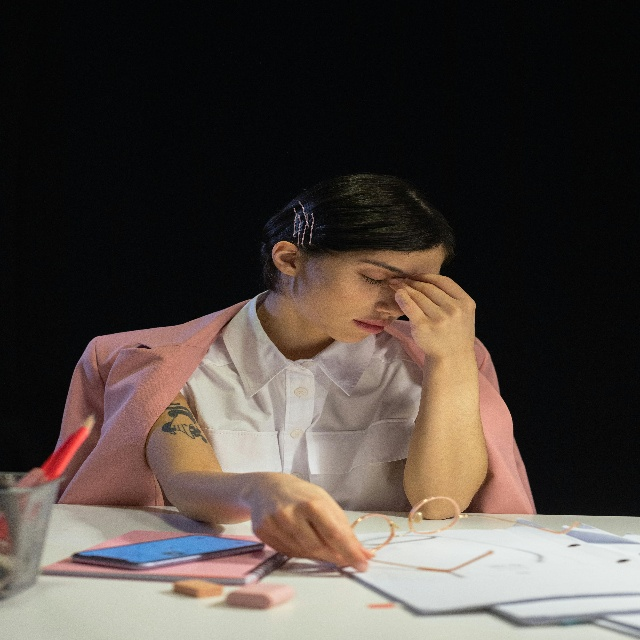Gafas: (350, 496, 579, 572)
Sin_guantes: (249, 473, 375, 572), (387, 271, 476, 356)
